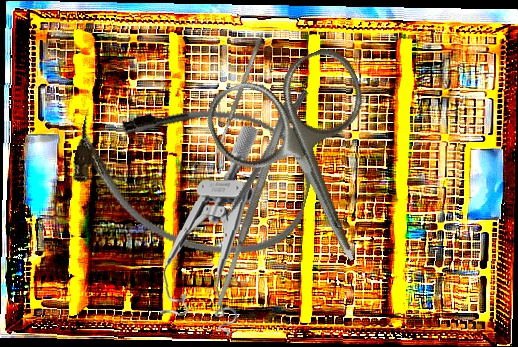Cannula: (59, 74, 324, 275)
Iris Scissors: (197, 40, 423, 292)
Pusher: (212, 87, 310, 236)
Spatula Surgical: (212, 101, 294, 308), (212, 36, 264, 158)
Speculum: (157, 122, 260, 338)
